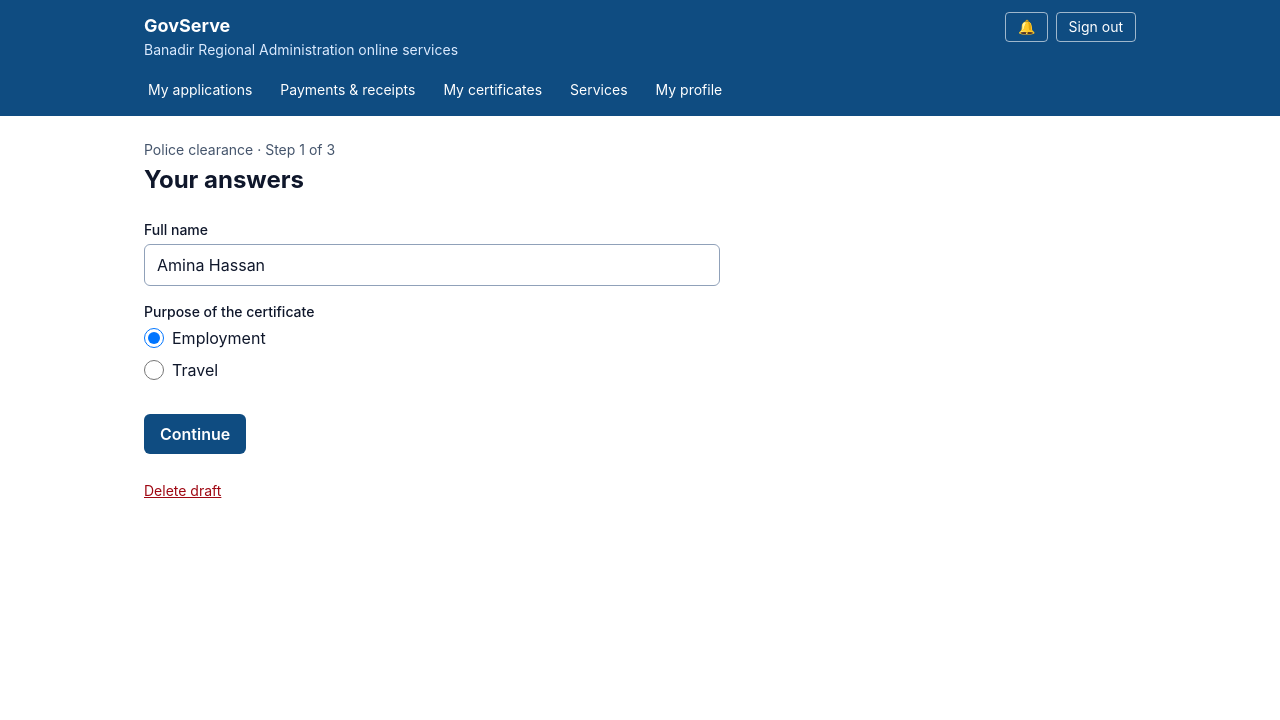
Test case: application wizard › should move to documents and show the checklist with any-one-of groups
Click the button "Continue" at (195, 434), box [144,414,246,454]
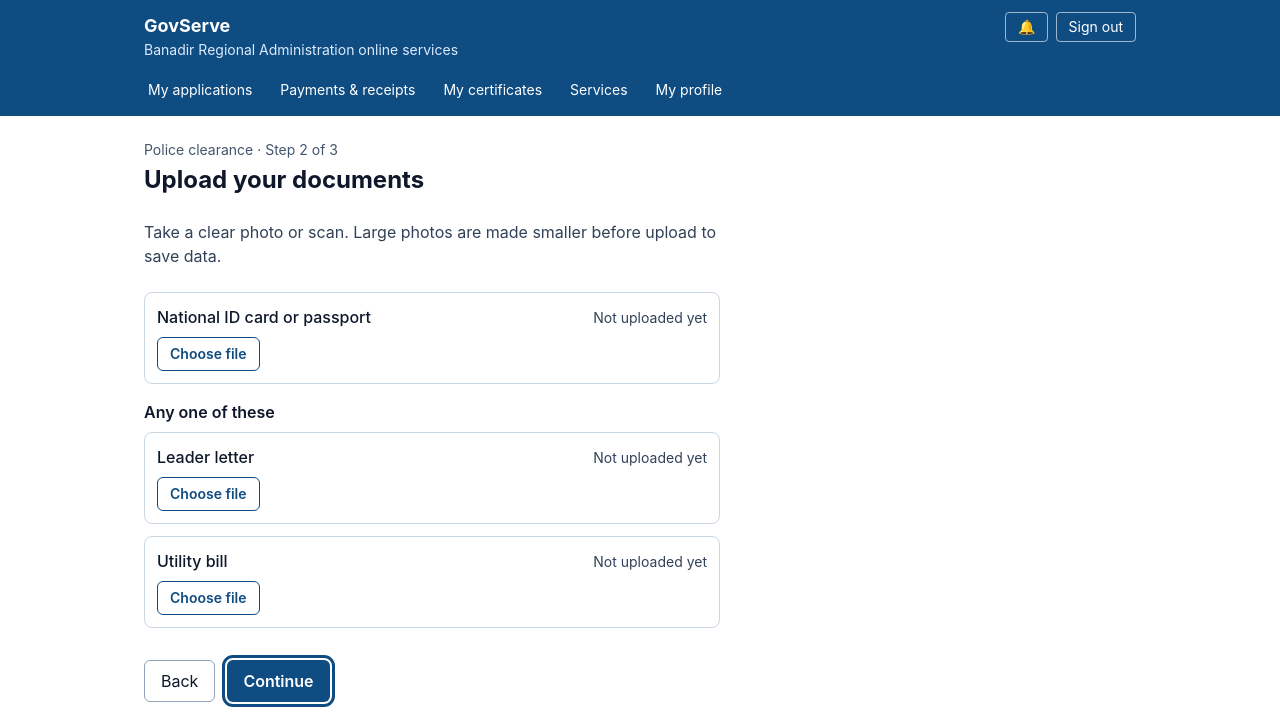
Check: the heading "Upload your documents" is shown, box [144,165,424,194]
Check: the text "Leader letter" is shown, box [157,445,254,469]
Check: the text "Not uploaded yet" is shown 3 times, box [593,308,707,328]; [593,448,707,468]; [593,552,707,572]
